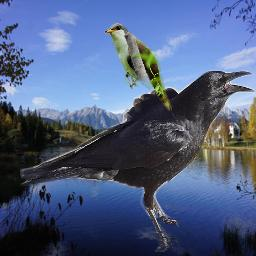Crow: (20, 69, 255, 252)
Cuckoo: (102, 23, 176, 111)
